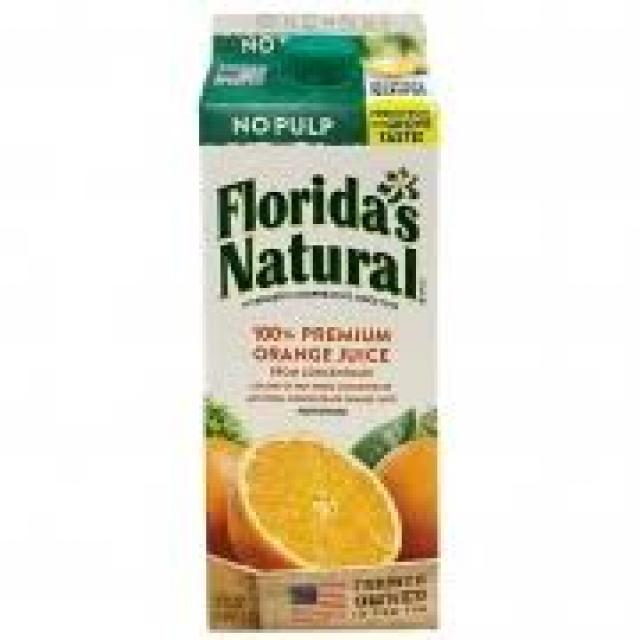non_white_jug: (185, 11, 451, 636)
